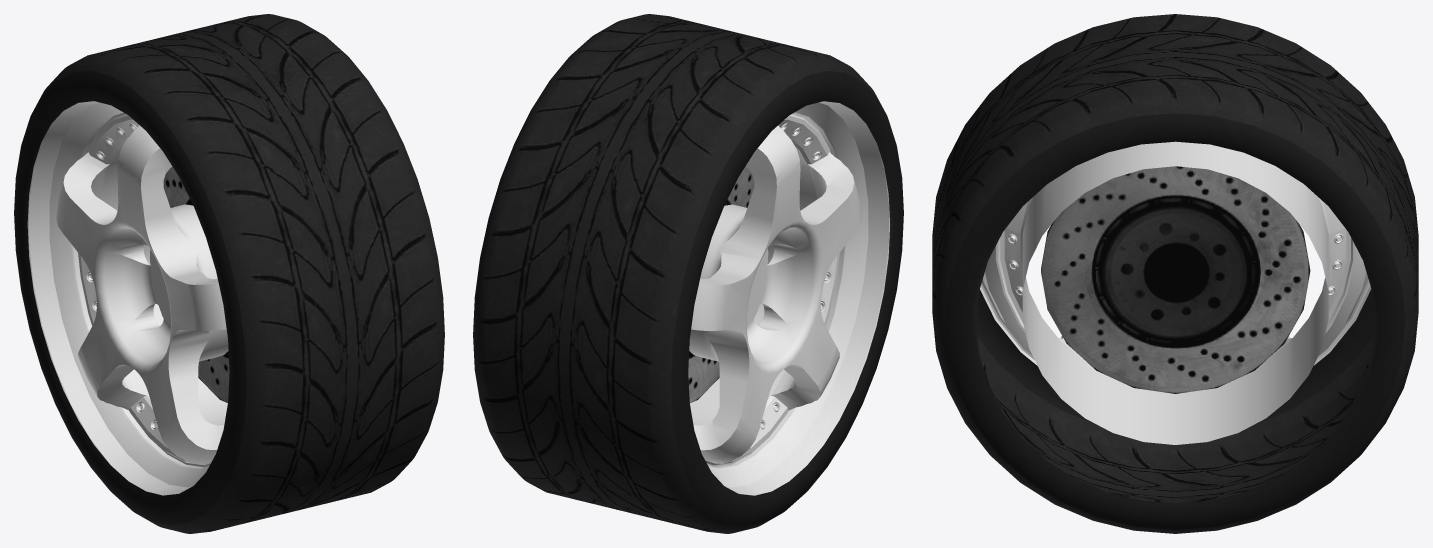
The model's file is 15_Rota_D2.fbx.
3 renders of one model, left to right at view 1: azimuth 30°, elevation 25°; view 2: azimuth 150°, elevation 25°; view 3: azimuth 270°, elevation 25°, orthographic.
Parts seen in each view (by area): view 1: Combined No Name Object 0, Rota_D2, Combined co_contisportcontact_2_vmax_wall Object 0, Chrome, Rotor; view 2: Combined No Name Object 0, Rota_D2, Combined co_contisportcontact_2_vmax_wall Object 0, Chrome, Rotor; view 3: Combined No Name Object 0, Rotor, Combined co_contisportcontact_2_vmax_wall Object 0, Rota_D2, Chrome.
Part boxes in pixels (x1=…): Combined No Name Object 0: x1=14, y1=14, x2=444, y2=533; Rota_D2: x1=27, y1=101, x2=228, y2=495; Combined co_contisportcontact_2_vmax_wall Object 0: x1=14, y1=70, x2=246, y2=525; Chrome: x1=28, y1=101, x2=207, y2=494; Rotor: x1=163, y1=167, x2=229, y2=402; Combined No Name Object 0: x1=473, y1=14, x2=903, y2=533; Rota_D2: x1=689, y1=101, x2=890, y2=495; Combined co_contisportcontact_2_vmax_wall Object 0: x1=671, y1=70, x2=903, y2=525; Chrome: x1=710, y1=101, x2=889, y2=493; Rotor: x1=688, y1=167, x2=754, y2=403; Combined No Name Object 0: x1=932, y1=14, x2=1418, y2=533; Rotor: x1=1041, y1=166, x2=1310, y2=393; Combined co_contisportcontact_2_vmax_wall Object 0: x1=945, y1=113, x2=1405, y2=530; Rota_D2: x1=980, y1=141, x2=1371, y2=444; Chrome: x1=980, y1=234, x2=1370, y2=364.
Size of the model in its own units: 0.3334 by 0.688 by 0.688.
